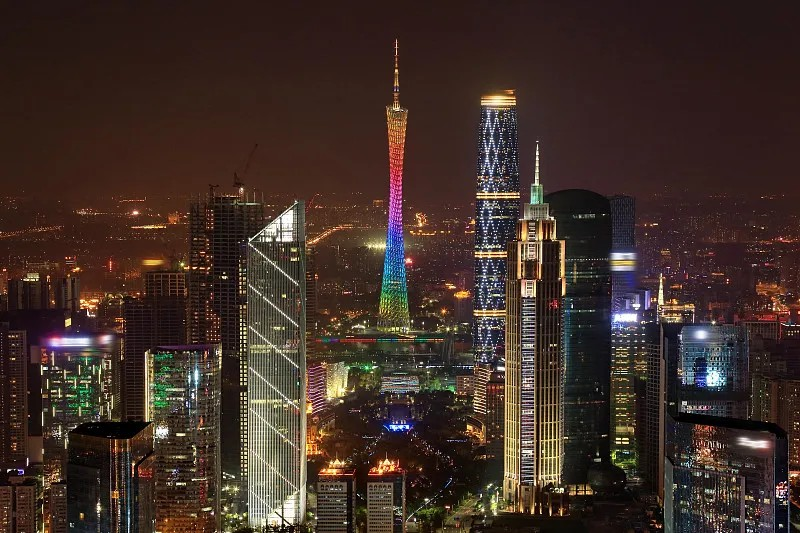Canton: (376, 38, 414, 327)
